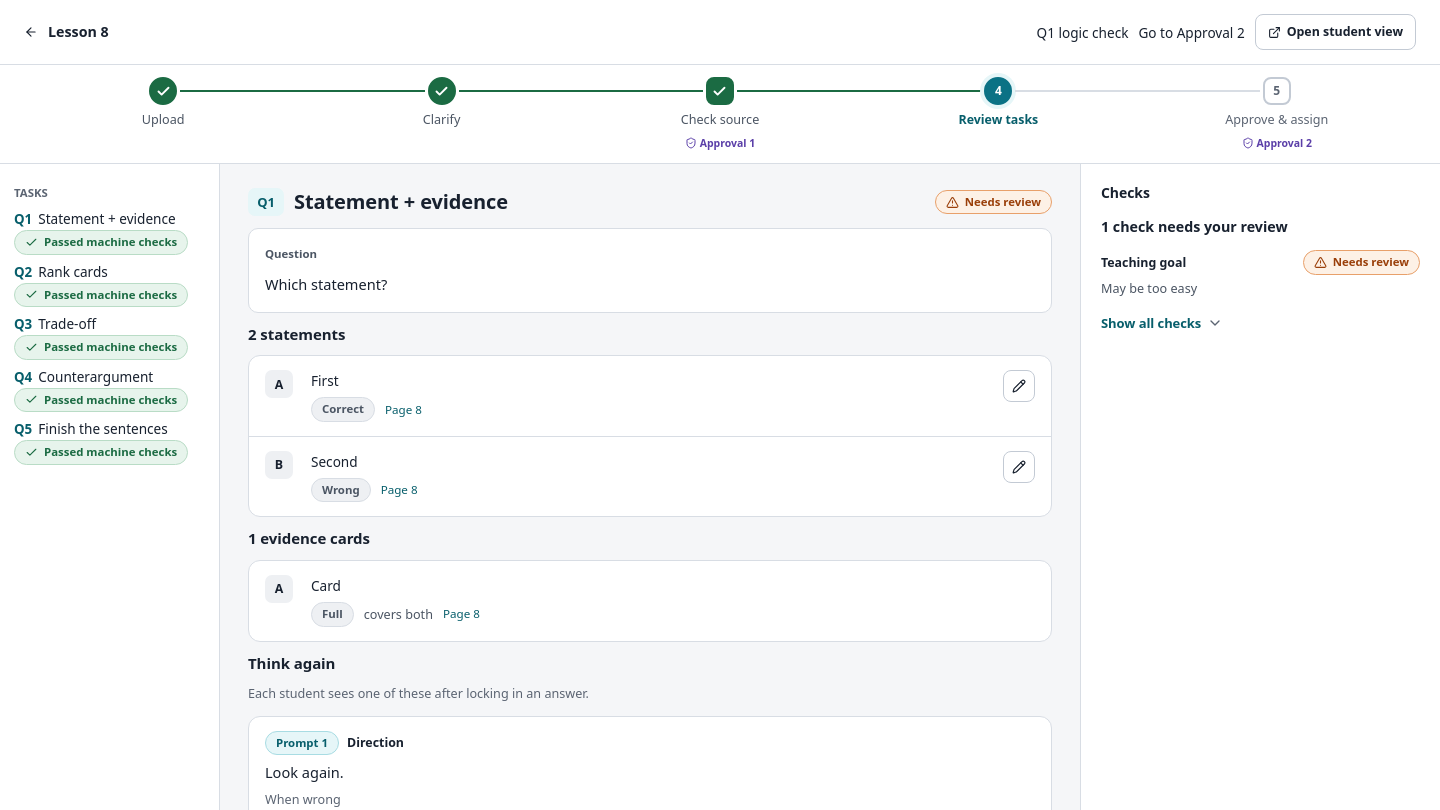
T7, T9 and T11 › checks open as a one-line summary, and only a check that needs review is spelled out
The width and height of the screenshot is (1440, 810).
Expected: the text "1 check needs your review" is shown, [1101, 216, 1288, 236]
Expected: the text "May be too easy" is shown, [1101, 280, 1197, 296]
Click the button "Show all checks": (1162, 323) [1101, 310, 1223, 337]
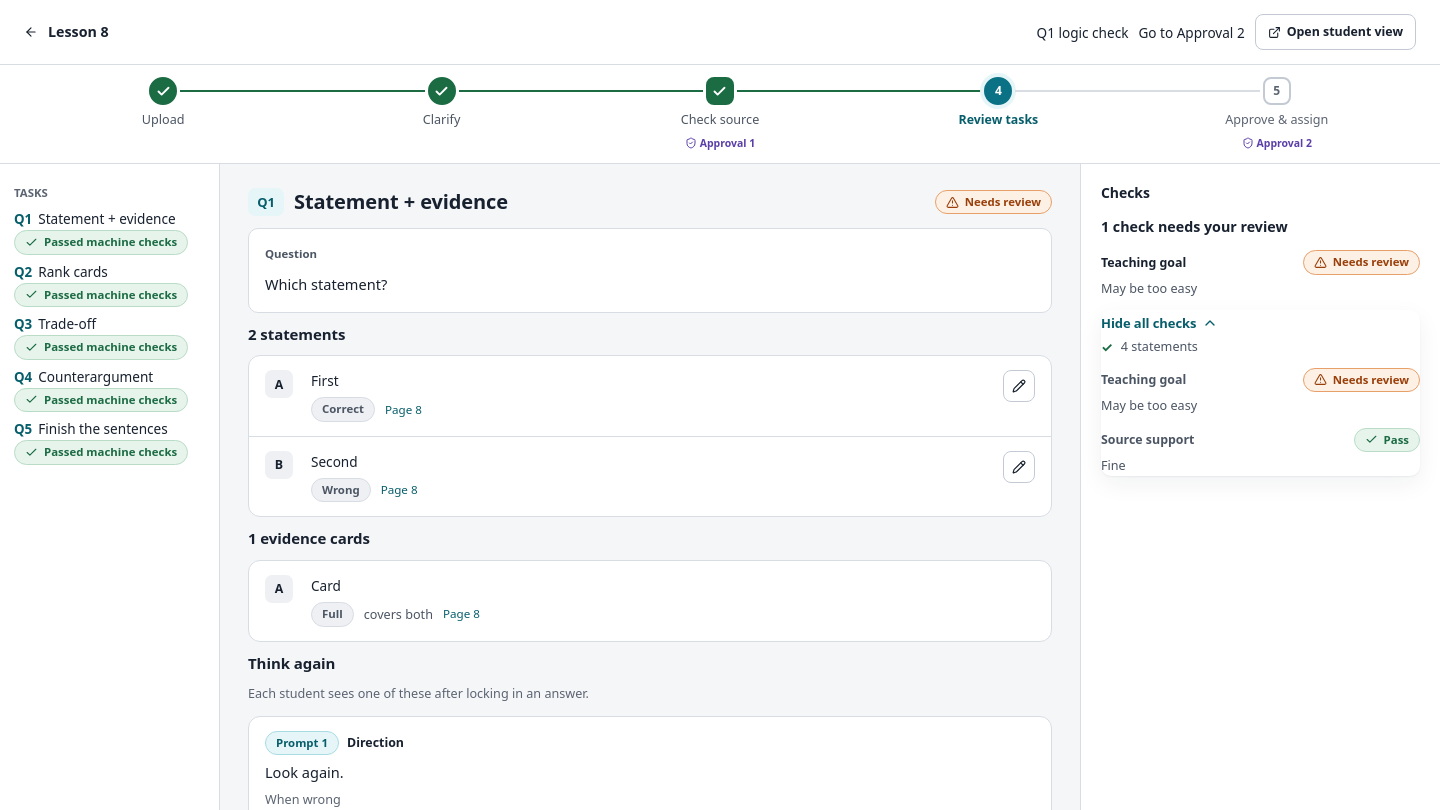
Expected: the text "Fine" is shown, [1101, 457, 1126, 474]
Expected: the text "4 statements" is shown, [1121, 337, 1198, 357]
